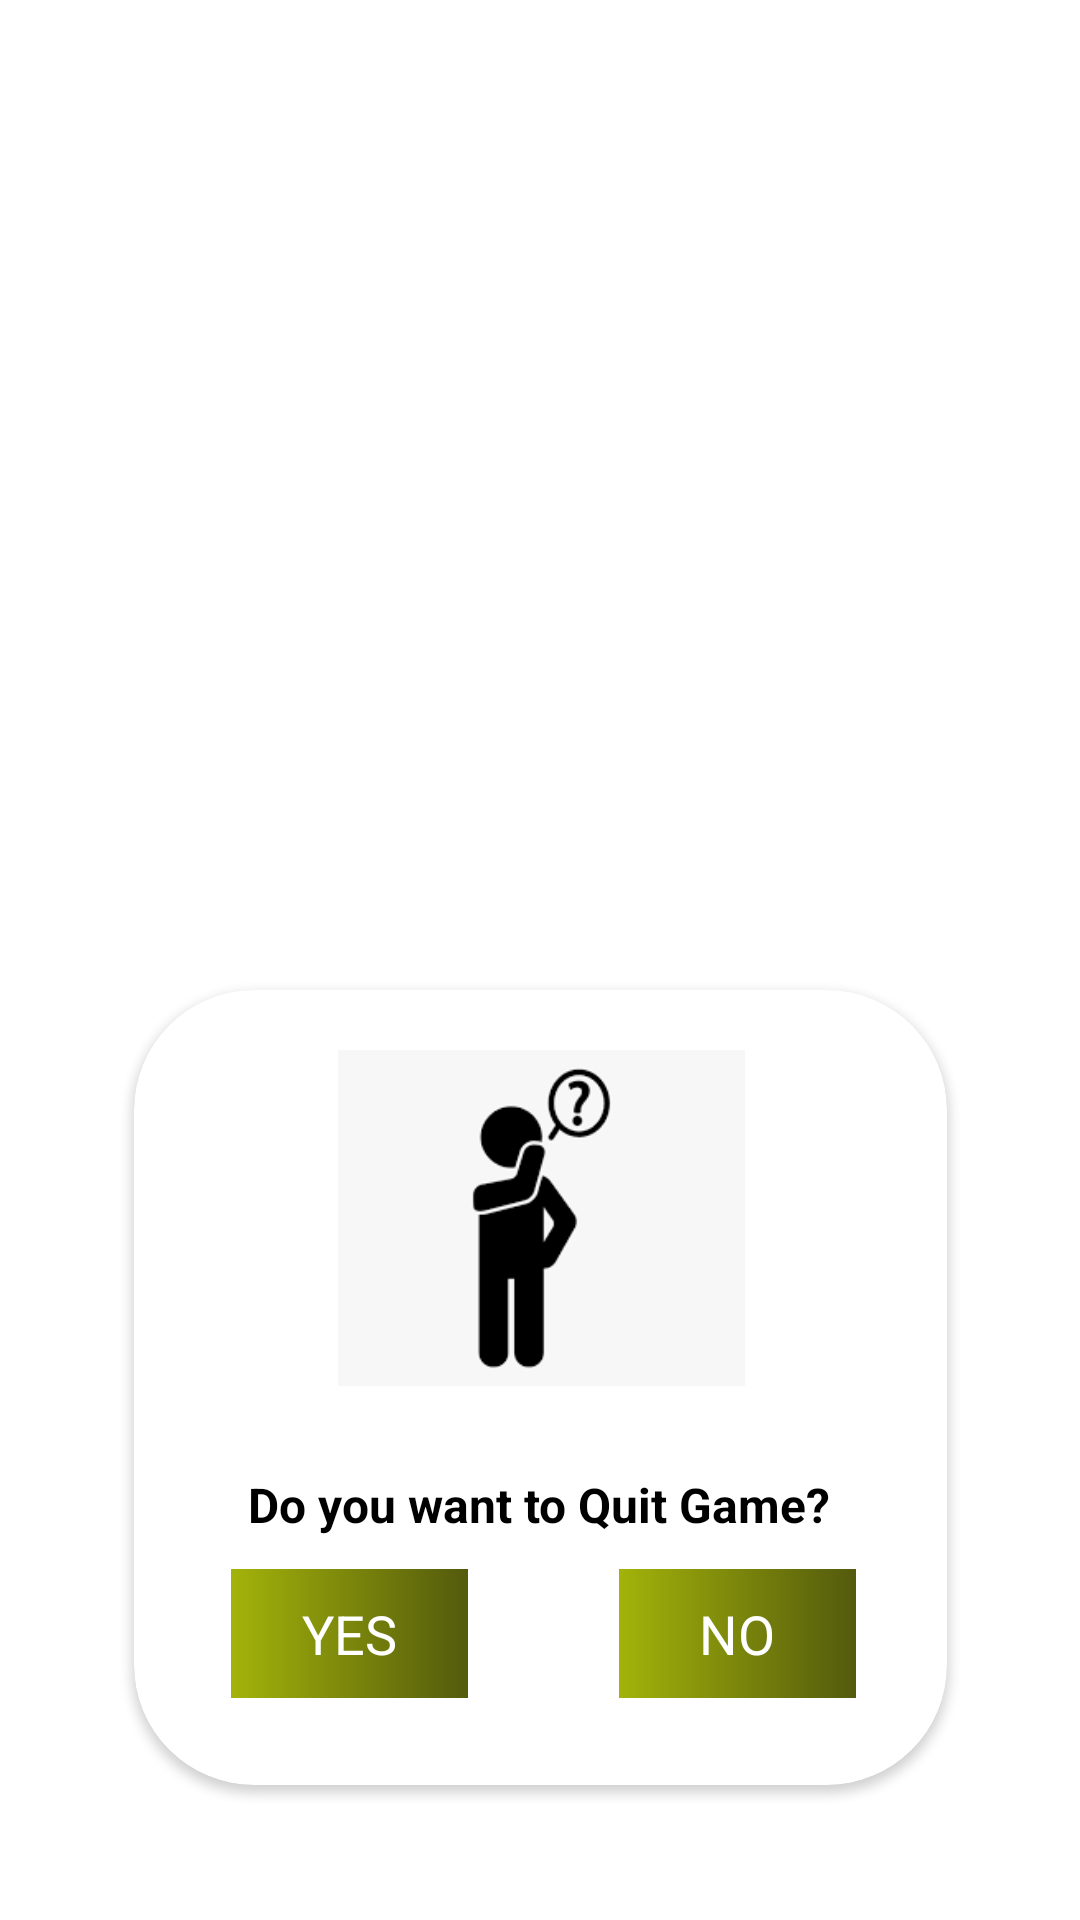

Icon click points for this 1080px×1920px phone screenshot, format (x=x, y=y):
areyousure: (x=541, y=1218)
